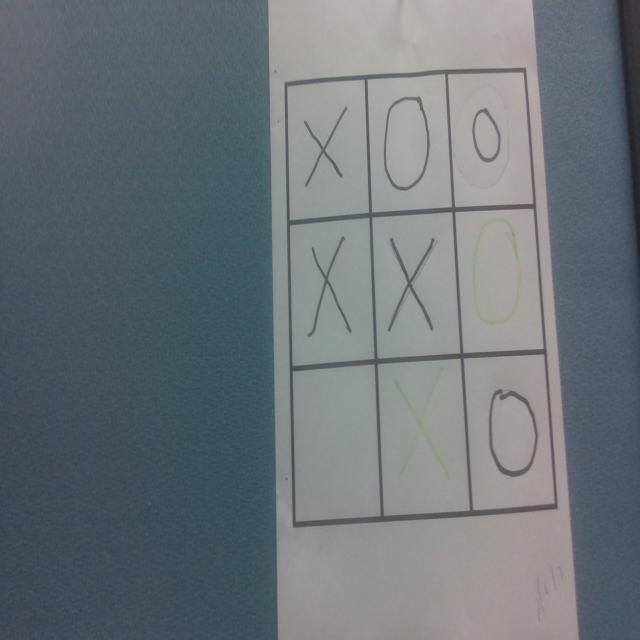null: (294, 364, 381, 524)
o: (472, 212, 533, 325), (485, 376, 543, 487), (383, 95, 432, 192), (471, 107, 503, 163)
table: (287, 70, 561, 527)
x: (391, 380, 445, 479), (388, 238, 435, 333), (309, 239, 349, 336), (305, 110, 346, 189)
